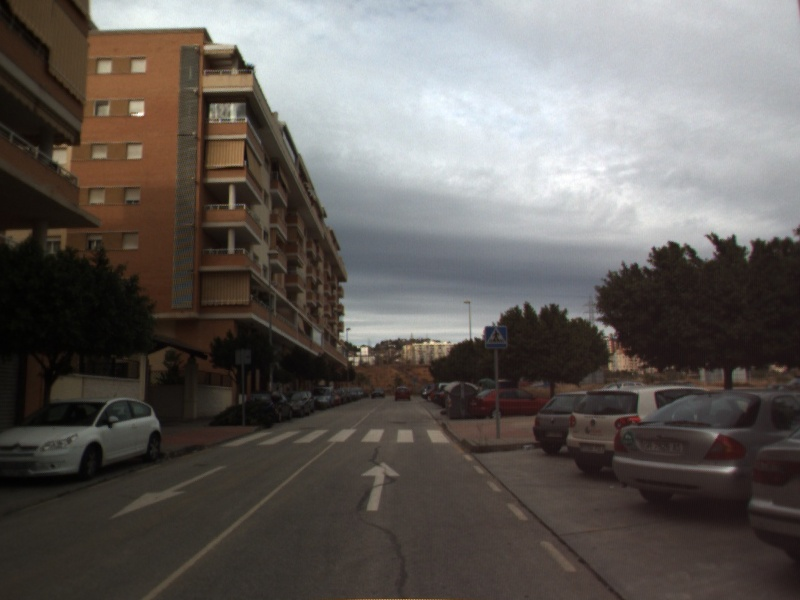STRAIGHT: (359, 459, 403, 513)
